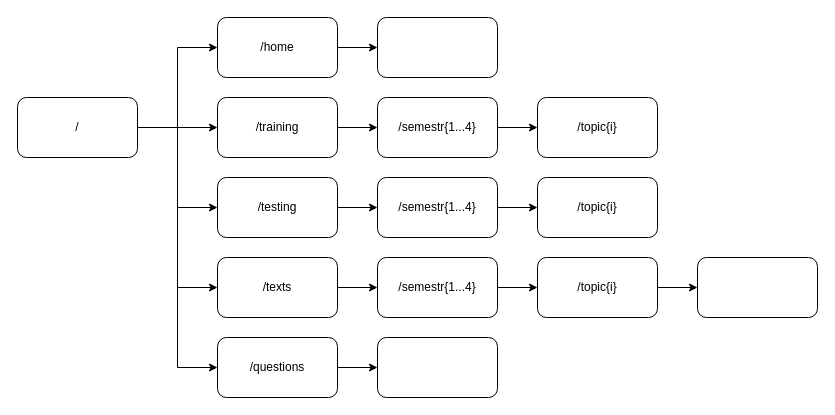
Image size: 835x415. Some labels were removed from this diagram. Here are the shapes that lost their labels. From the top down, the centre of each, then its label:
At pixel 437 47: "/authorization".
At pixel 757 287: "/{name_text}".
At pixel 437 367: "/consultations".
